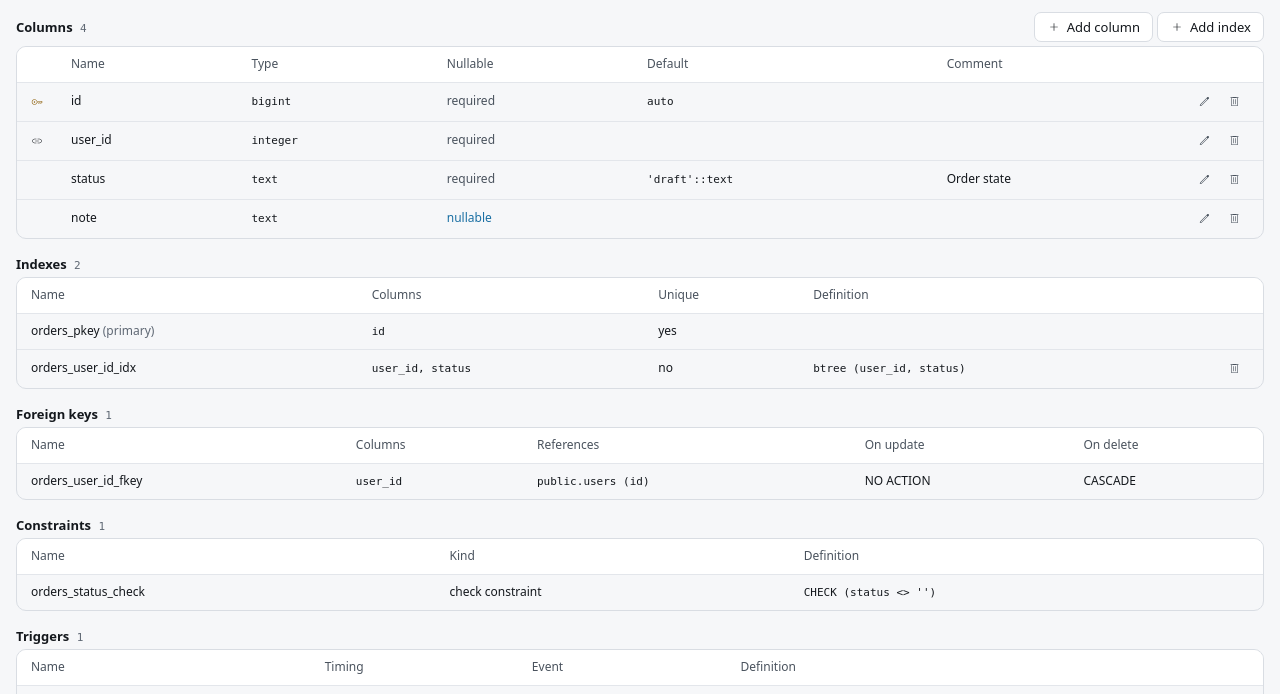
Test: StructureView › stages a dropped column, can undo it, and discards all pending changes
Expected: the button "Review SQL" is not shown
What coordinates should you click on to do the following:
click the button named "Drop note"
I would click on:
 (1234, 219)
Its box is [1219,204,1249,234].
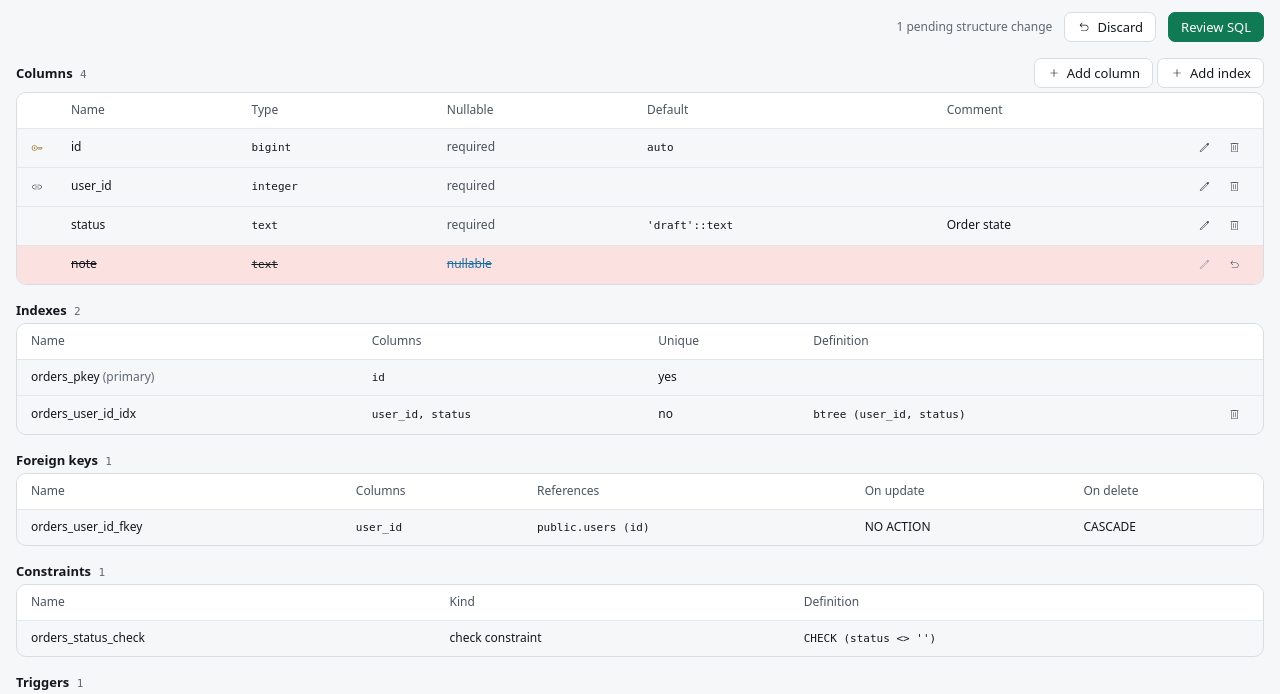
Now the text "1 pending structure change" is shown, box [896,19,1052,35]
// Clicking again undoes the drop.
What coordinates should you click on to do the following:
click the button named "Drop note"
I would click on:
 (1234, 265)
Its box is [1219,250,1249,280].
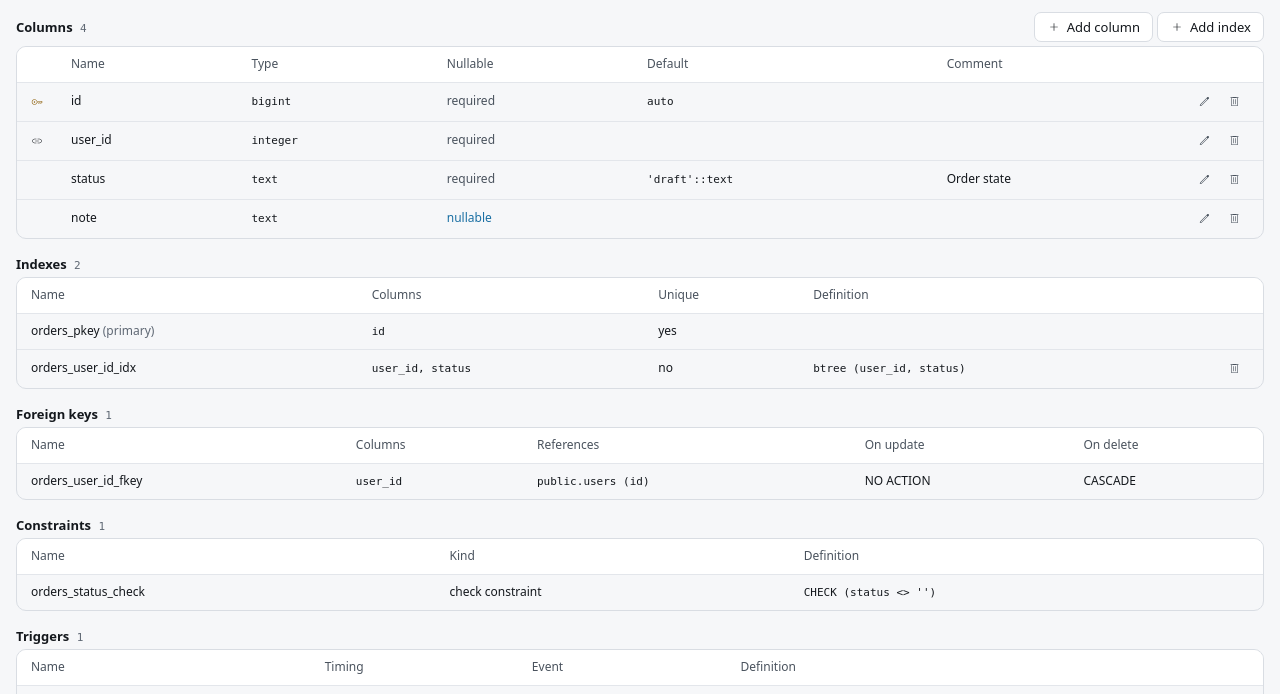
Now the button "Review SQL" is gone
What coordinates should you click on to do the following:
click the button named "Drop note"
I would click on:
 (1234, 219)
Its box is [1219,204,1249,234].
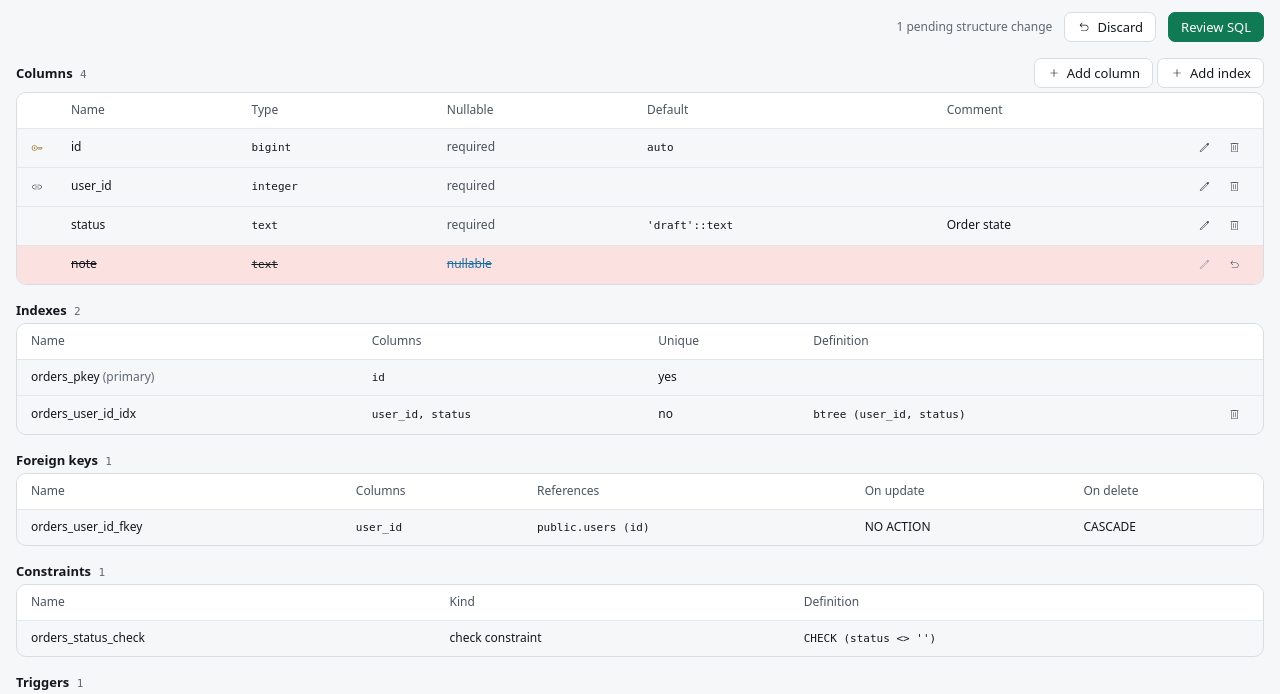
What coordinates should you click on to do the following:
click the button named "Drop status"
I would click on:
 (1234, 226)
Its box is [1219,211,1249,241].
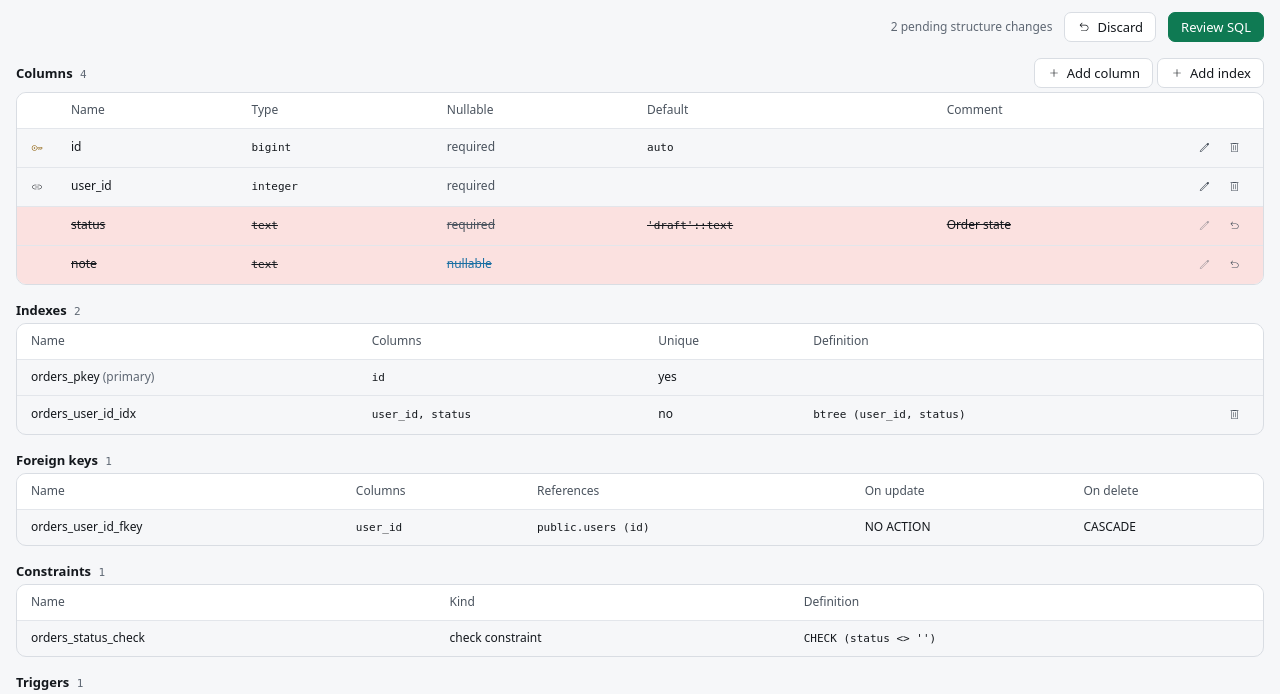
Now the text "2 pending structure changes" is shown, box [891,19,1052,35]
What coordinates should you click on to do the following:
click the button "Discard"
I would click on:
 (1110, 27)
Its box is [1064,12,1156,42].
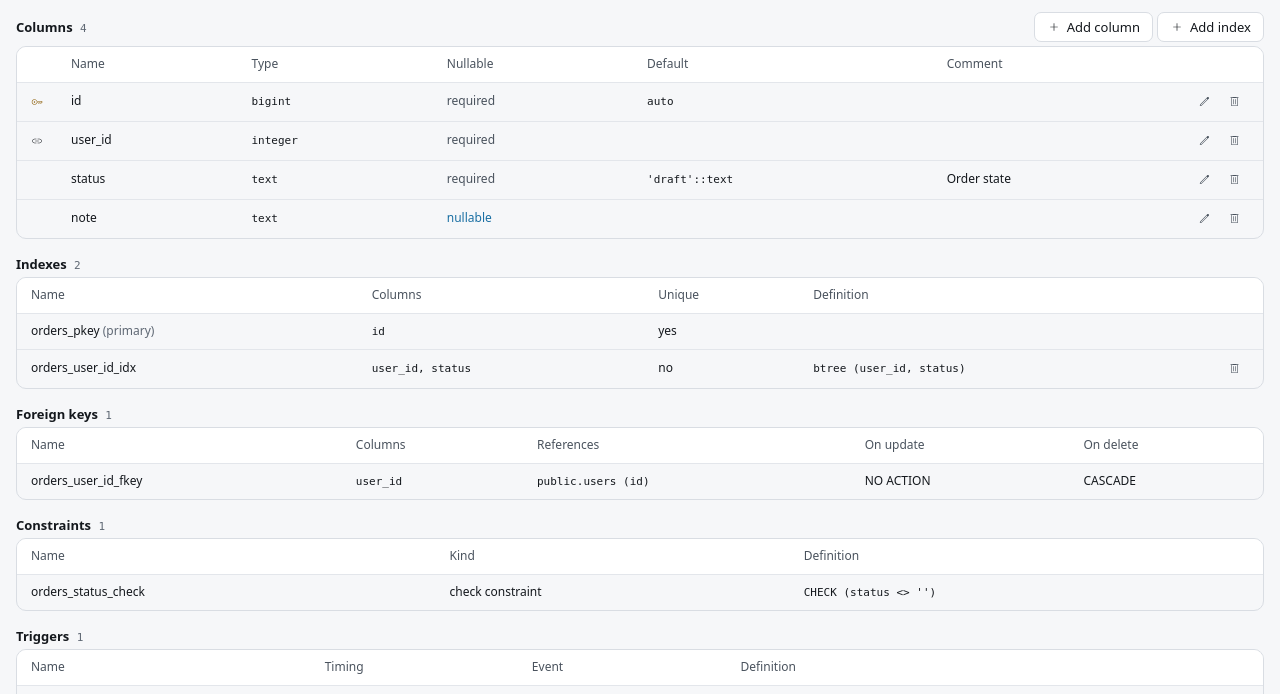
Now the text "pending structure change" is gone
